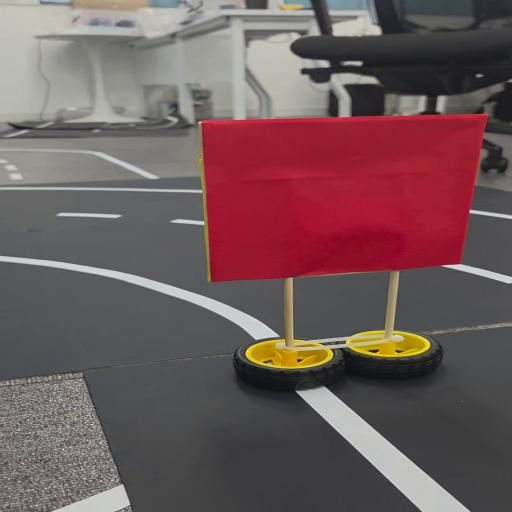Sign_A: (199, 109, 486, 389)
